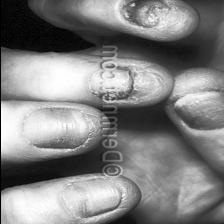Toxin: (45, 105, 87, 155), (71, 179, 128, 213), (176, 92, 224, 121), (137, 2, 171, 30), (119, 64, 141, 104)
